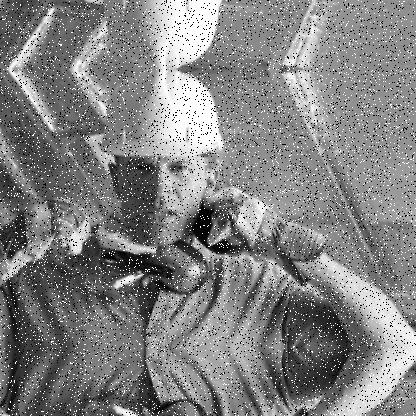Helmet: (107, 73, 226, 251), (100, 0, 224, 77)
